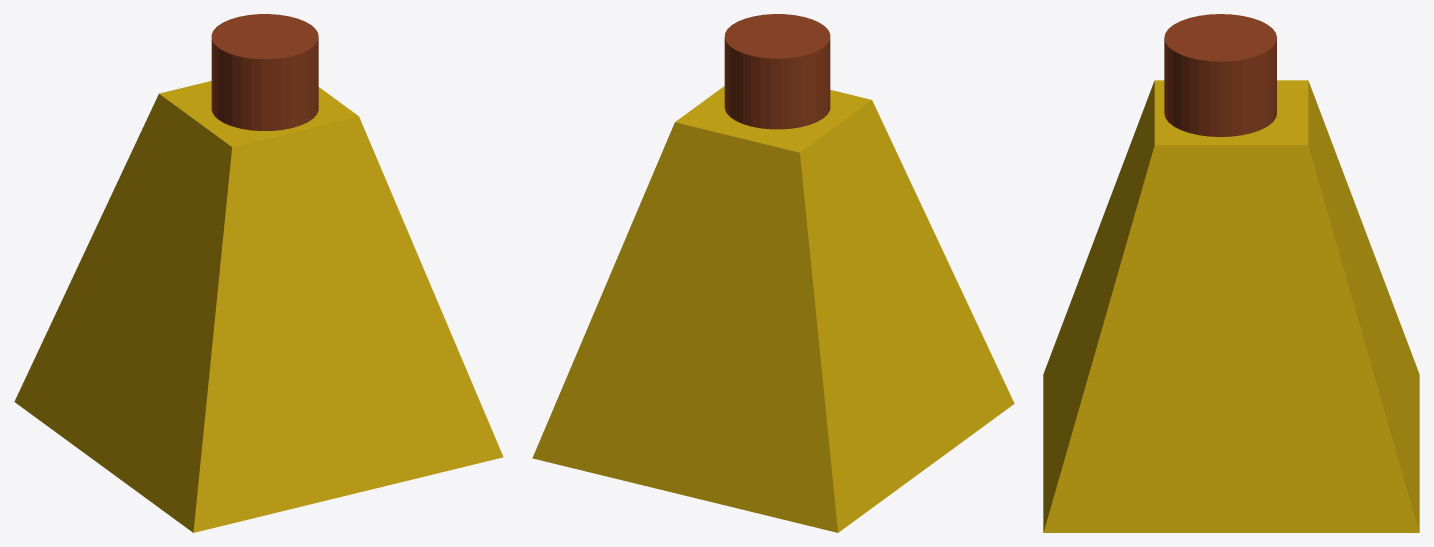
Rendered from potion.fbx.
The picture shows the model from 3 angles, left to right: view 1: azimuth 30°, elevation 25°; view 2: azimuth 150°, elevation 25°; view 3: azimuth 270°, elevation 25°; orthographic projection. The views are drawn at different scales.
Visible parts, largest first — view 1: Cube, Cylinder; view 2: Cube, Cylinder; view 3: Cube, Cylinder.
Part boxes in pixels (box(x1,y1,x2,y2)): Cube: box(14, 81, 503, 532); Cylinder: box(211, 14, 318, 130); Cube: box(532, 86, 1014, 532); Cylinder: box(724, 14, 830, 129); Cube: box(1043, 80, 1419, 532); Cylinder: box(1164, 14, 1276, 136).
Bounding box in the file's own units: 200 × 244 × 200.
